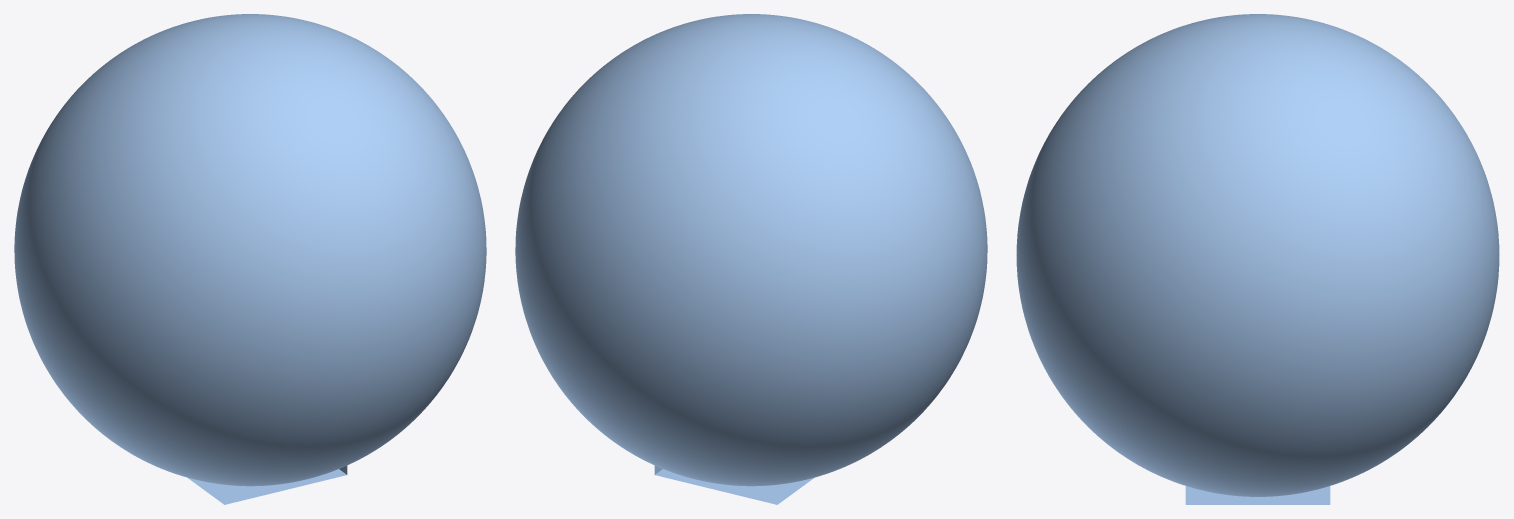
The model's file is hero-globe.glb.
The picture shows the model from 3 angles, left to right: view 1: azimuth 30°, elevation 25°; view 2: azimuth 150°, elevation 25°; view 3: azimuth 270°, elevation 25°; orthographic projection. The views are drawn at different scales.
Visible parts, largest first — view 1: hero-globe; view 2: hero-globe; view 3: hero-globe.
Part boxes in pixels (x1,y1,x2,y2): hero-globe: [14, 14, 486, 504]; hero-globe: [515, 14, 987, 504]; hero-globe: [1016, 14, 1499, 504].
Size of the model in its own units: 2 by 2 by 2.
